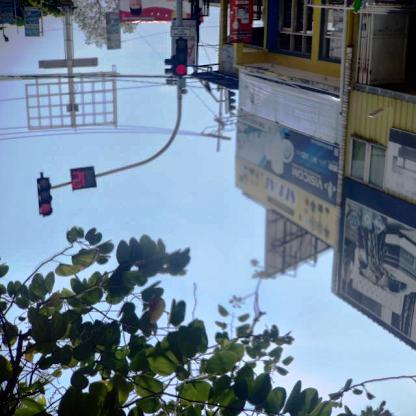Traffic Light -Red-: (35, 176, 53, 217), (175, 38, 186, 75)
